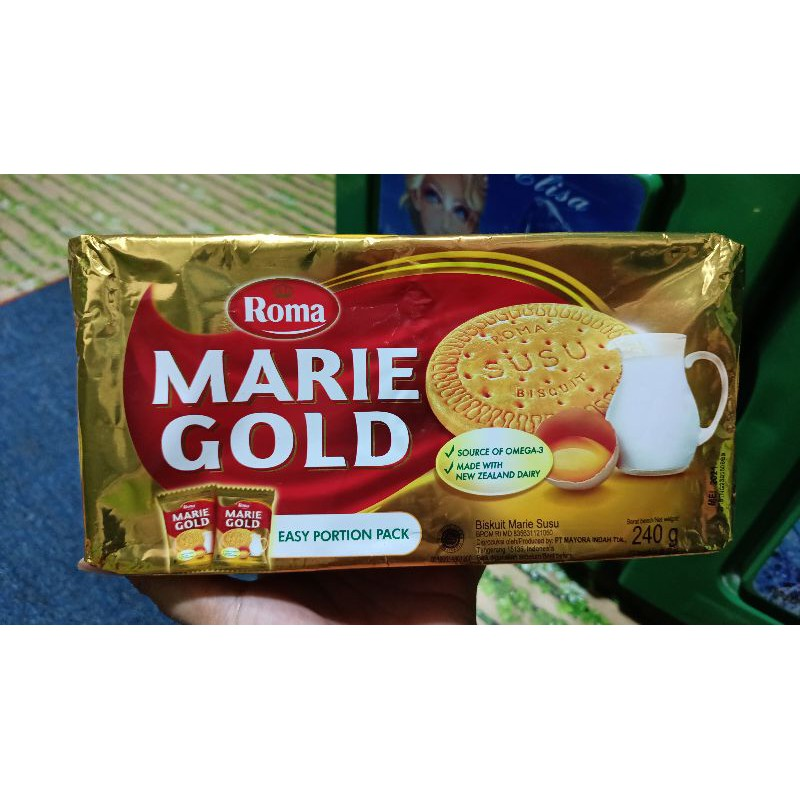Roma Marie Gold (240g): (42, 222, 752, 562)
